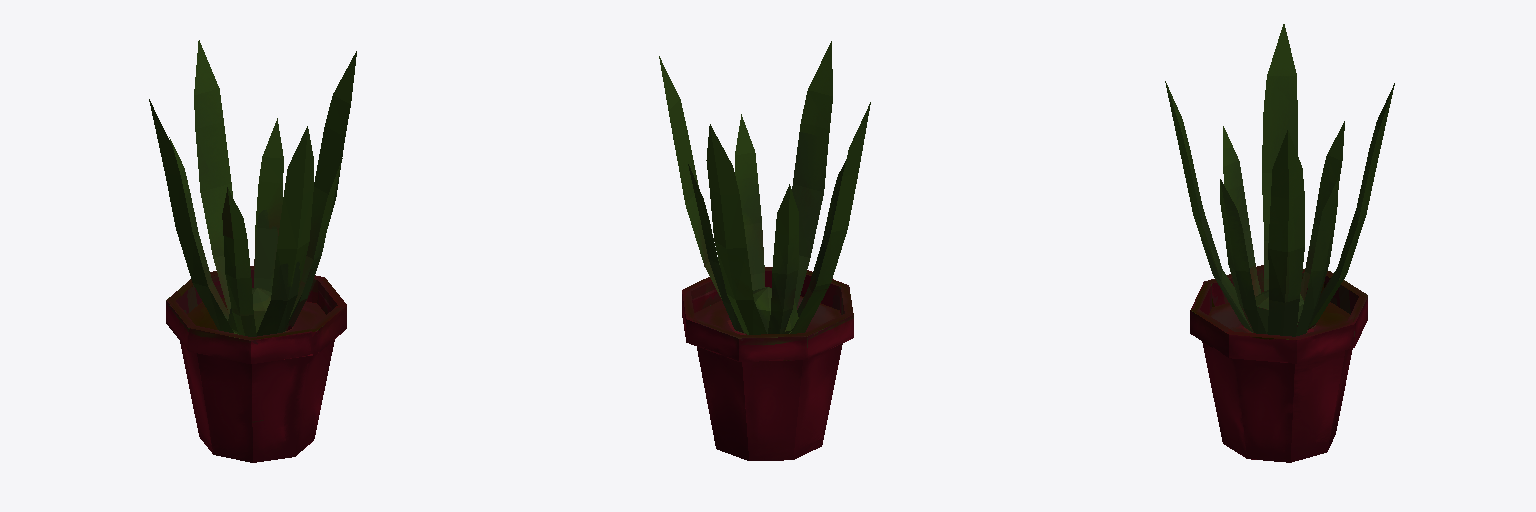
3 renders of one model, left to right at view 1: azimuth 30°, elevation 25°; view 2: azimuth 150°, elevation 25°; view 3: azimuth 270°, elevation 25°, orthographic.
Parts seen in each view (by area): view 1: Plantita_Circle.005_None; view 2: Plantita_Circle.005_None; view 3: Plantita_Circle.005_None.
Part boxes in pixels (left/top/right/bottom): Plantita_Circle.005_None: left=149, top=40, right=356, bottom=462; Plantita_Circle.005_None: left=659, top=41, right=870, bottom=460; Plantita_Circle.005_None: left=1165, top=24, right=1394, bottom=462.
Bounding box in the file's own units: 0.7227 × 1.2 × 0.6863.
1 materials, 1 textured.